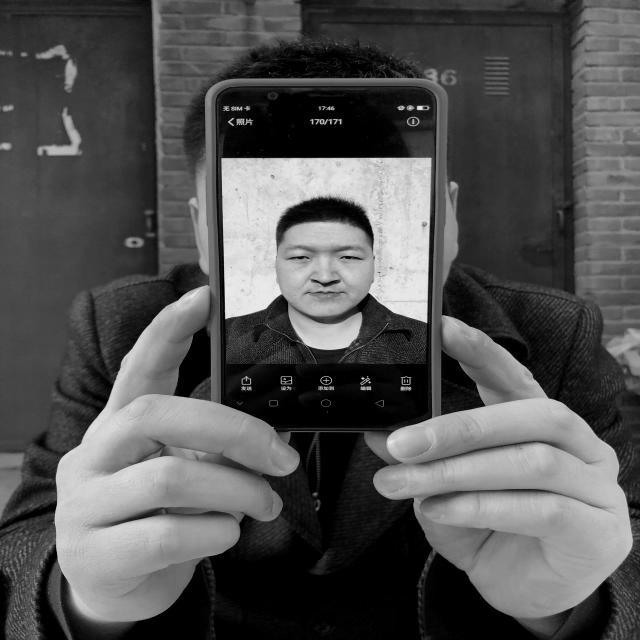fake: (200, 72, 458, 444)
